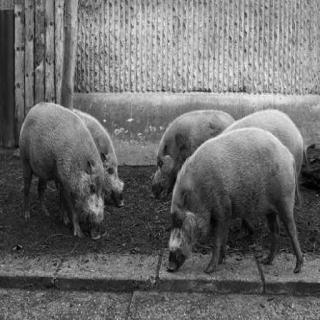Pig: (159, 116, 311, 289), (18, 101, 108, 250), (140, 95, 191, 205), (88, 118, 140, 202)
